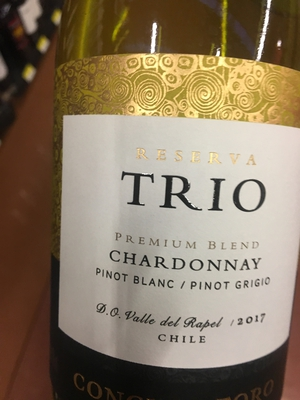trio chardonnay: (49, 27, 300, 396)
